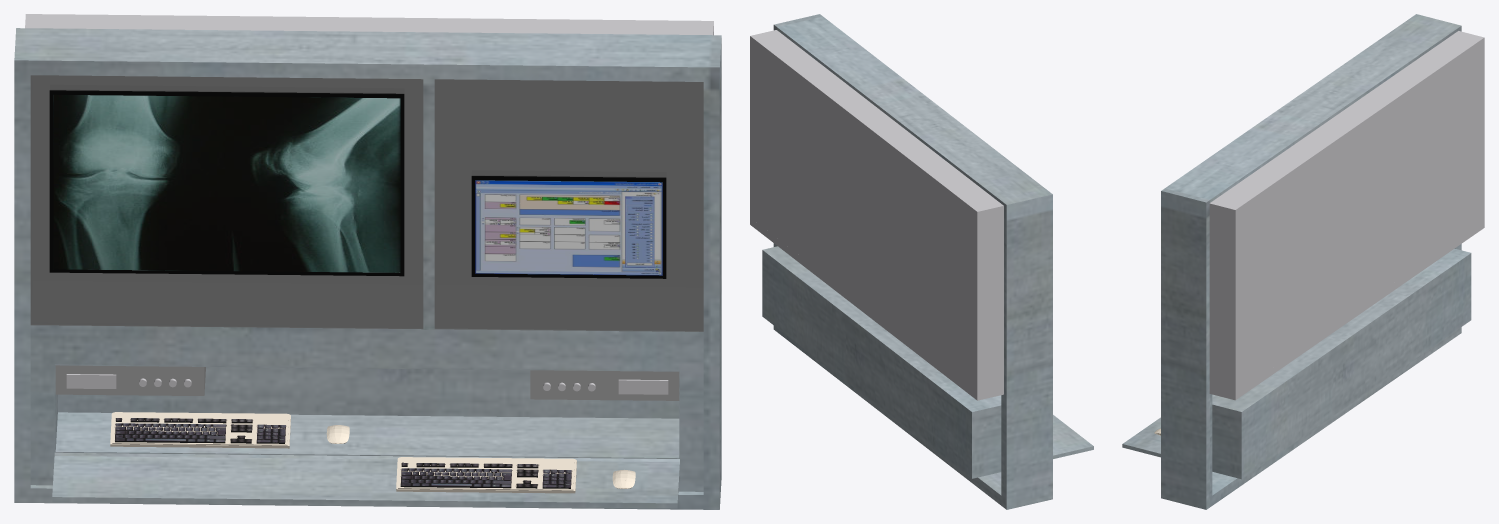
Rendered from OP-Integration.fbx.
3 renders of one model, left to right at view 1: azimuth 30°, elevation 25°; view 2: azimuth 150°, elevation 25°; view 3: azimuth 270°, elevation 25°, orthographic. The views are drawn at different scales.
Visible parts, largest first — view 1: Metall Stahl, gebürstet, Glas Rauchglas, Plakatwerbung 5f318c069d16453accb9d35e1d45fb9c, Plakatwerbung ff5b23bd1136d5f41e71b8ecf82f3596, Stahl, rostfrei, Kunststoff-Spanplatte, Farbe, schwarz, Farbe, grau, GDLM52_letterkeysmat, GDLM51_antracite, GDLM54_numpadmat; view 2: Stahl, rostfrei, Metall Stahl, gebürstet; view 3: Stahl, rostfrei, Metall Stahl, gebürstet.
Boxes of the visible parts, x1,y1,x2,y2 form: Metall Stahl, gebürstet: (14, 28, 721, 509); Glas Rauchglas: (30, 75, 703, 331); Plakatwerbung 5f318c069d16453accb9d35e1d45fb9c: (53, 94, 400, 272); Plakatwerbung ff5b23bd1136d5f41e71b8ecf82f3596: (475, 180, 662, 275); Stahl, rostfrei: (25, 14, 713, 394); Kunststoff-Spanplatte: (110, 412, 635, 493); Farbe, schwarz: (49, 90, 666, 278); Farbe, grau: (55, 365, 679, 400); GDLM52_letterkeysmat: (115, 423, 511, 486); GDLM51_antracite: (115, 418, 571, 488); GDLM54_numpadmat: (256, 424, 571, 487); Stahl, rostfrei: (750, 30, 1003, 400); Metall Stahl, gebürstet: (762, 14, 1093, 509); Stahl, rostfrei: (1209, 31, 1484, 400); Metall Stahl, gebürstet: (1122, 14, 1471, 509).
Bounding box in the file's own units: 176 × 137 × 128.
Materials: 18 (12 with a texture image).
